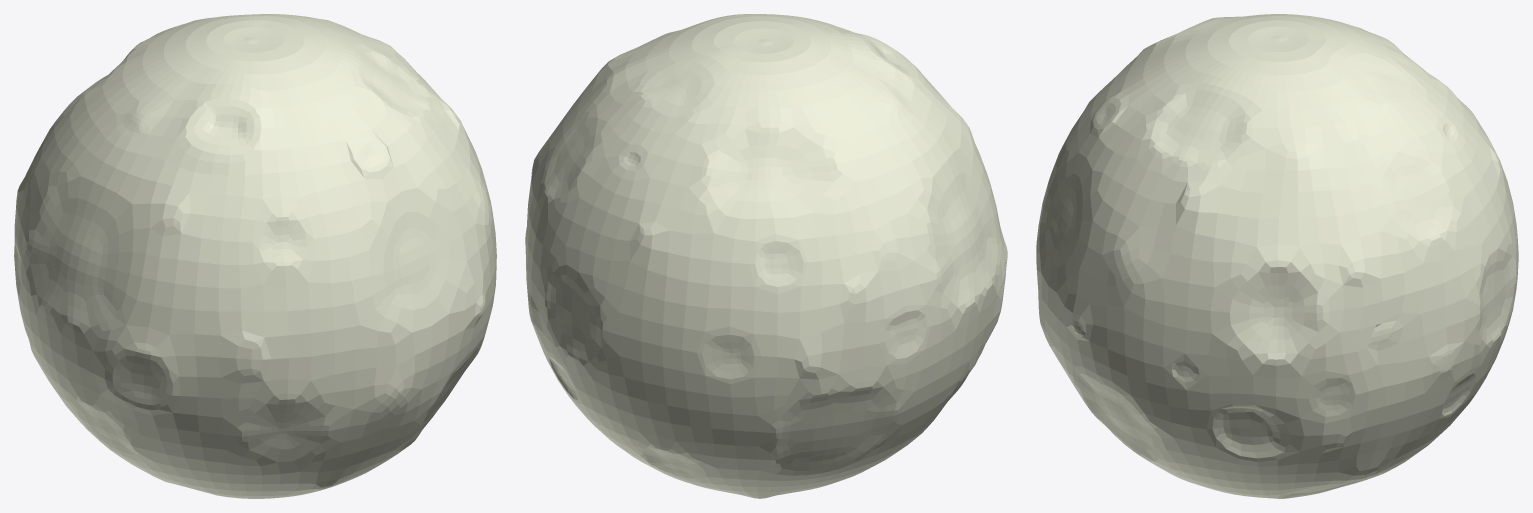
3 views of the same model, side by side, from view 1: azimuth 30°, elevation 25°; view 2: azimuth 150°, elevation 25°; view 3: azimuth 270°, elevation 25° (orthographic).
Parts seen in each view (by area): view 1: Sphere.002; view 2: Sphere.002; view 3: Sphere.002.
Boxes of the visible parts, x1,y1,x2,y2 form: Sphere.002: [14, 14, 496, 498]; Sphere.002: [525, 14, 1007, 498]; Sphere.002: [1036, 14, 1518, 498].
Size of the model in its own units: 201 by 195 by 198.
